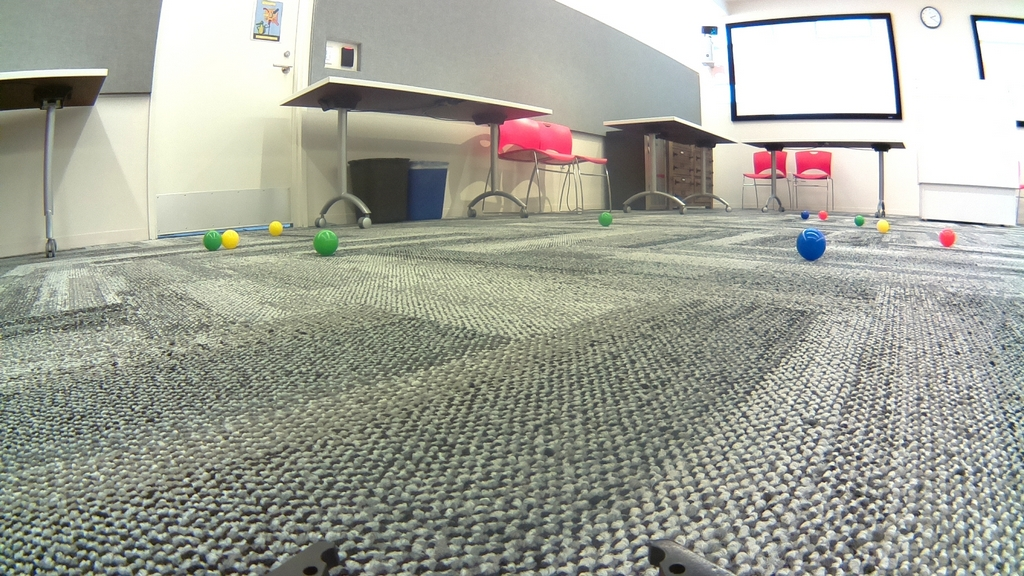ball: (205, 230, 221, 252)
